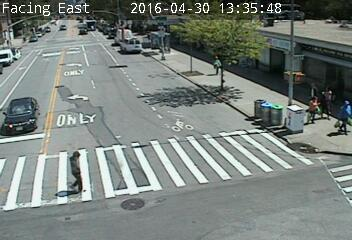neg: (242, 76, 262, 102), (114, 100, 133, 125), (29, 71, 47, 95), (325, 143, 340, 162), (122, 5, 136, 24), (96, 15, 110, 34), (274, 51, 288, 70), (188, 62, 202, 80), (267, 100, 280, 118), (61, 89, 74, 106), (22, 29, 34, 46), (155, 38, 167, 54), (59, 21, 68, 34), (43, 46, 51, 57), (75, 23, 83, 34)
pos: (57, 149, 90, 192), (331, 97, 351, 133), (317, 88, 339, 117), (306, 95, 325, 121), (208, 54, 224, 75)
